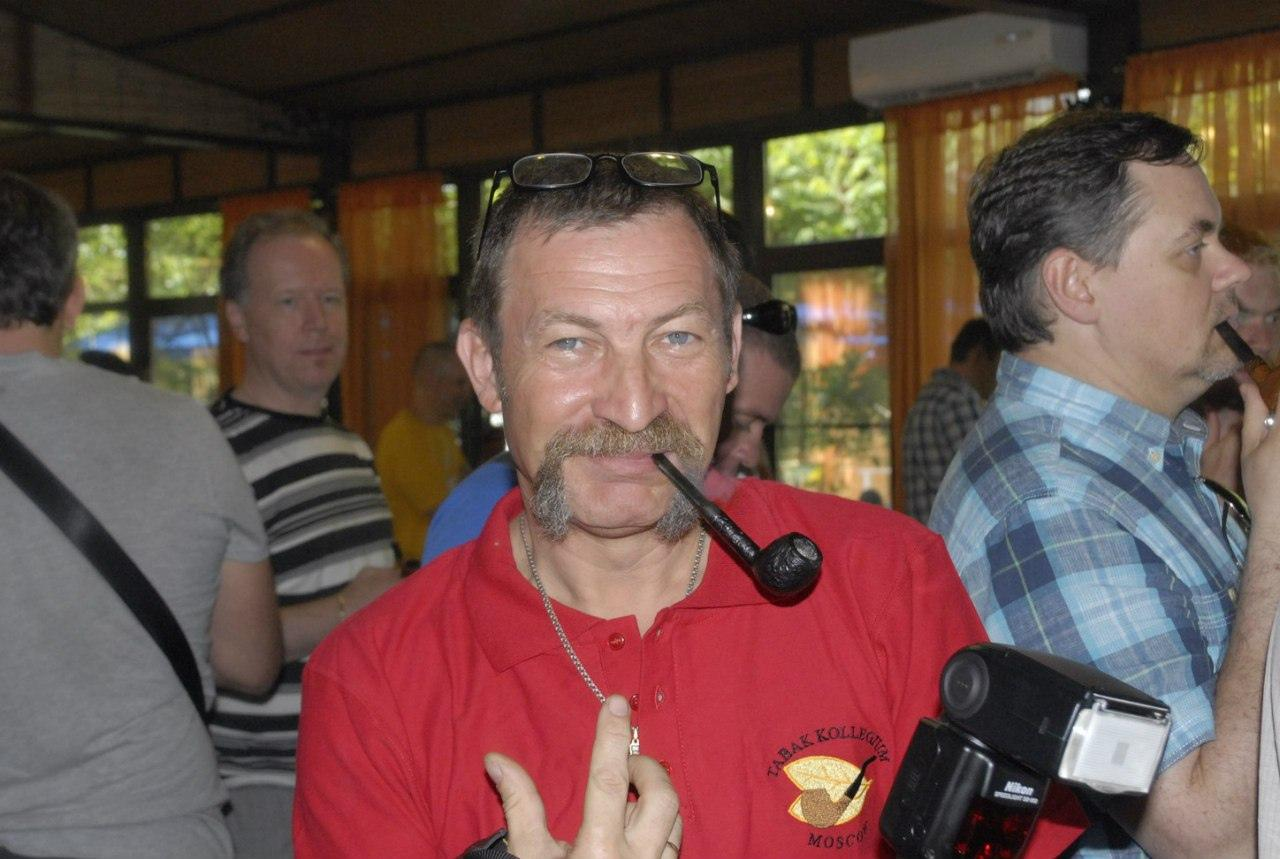trubka: (652, 455, 822, 605)
